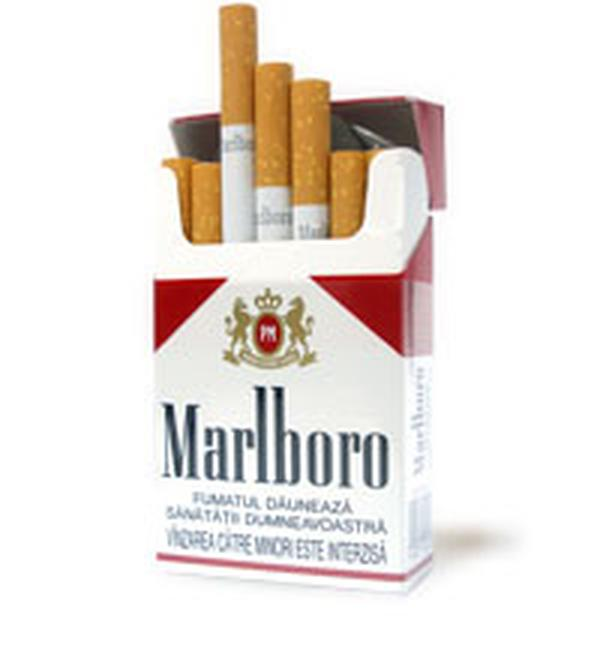marlboro_red: (159, 180, 408, 559)
